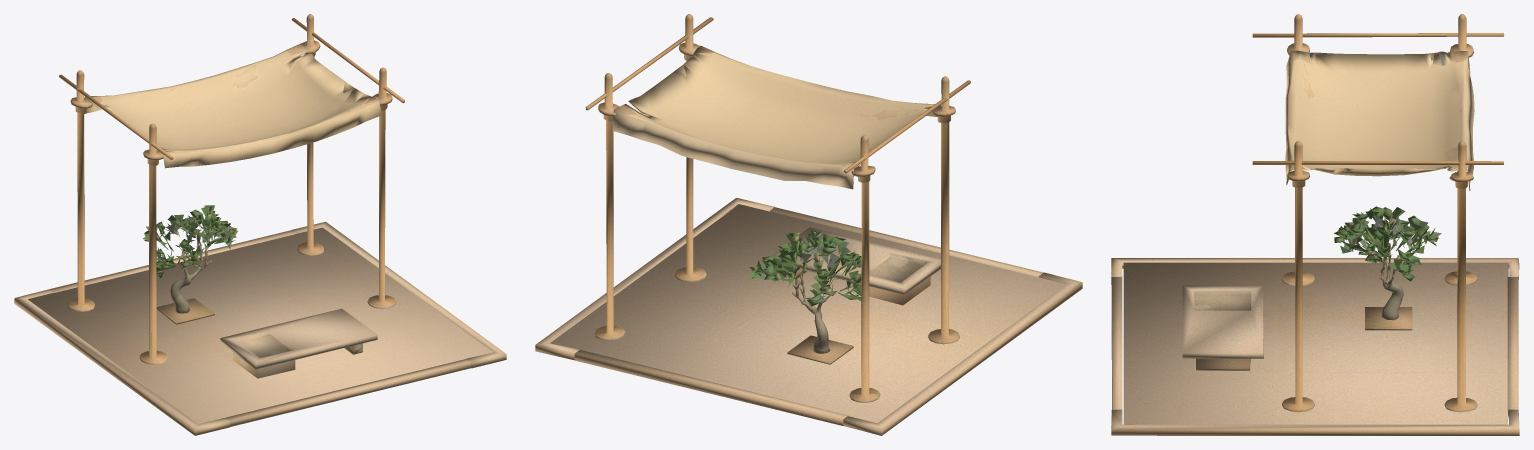
File: plaza.glb
The picture shows the model from 3 angles, left to right: view 1: azimuth 30°, elevation 25°; view 2: azimuth 150°, elevation 25°; view 3: azimuth 270°, elevation 25°; orthographic projection. The views are drawn at different scales.
Size of the model in its own units: 0.9565 by 0.7095 by 0.9619.
1 material, 1 textured.
